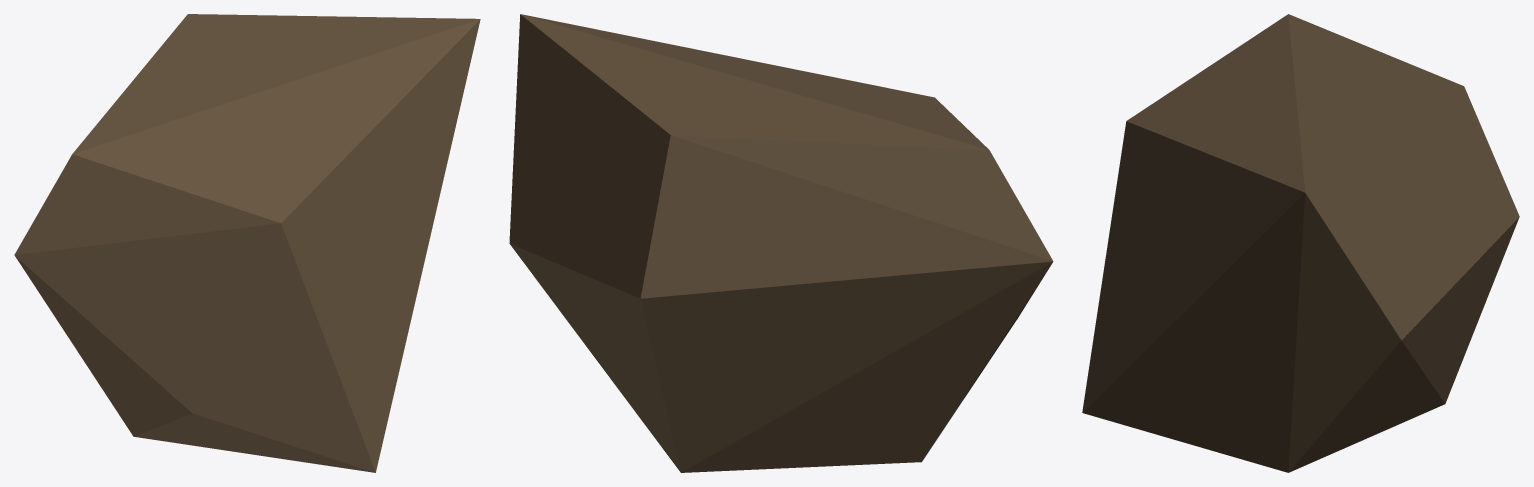
The model's file is Rock-B04.fbx.
The picture shows the model from 3 angles, left to right: view 1: azimuth 30°, elevation 25°; view 2: azimuth 150°, elevation 25°; view 3: azimuth 270°, elevation 25°; orthographic projection. The views are drawn at different scales.
Visible parts, largest first — view 1: Rock-B04; view 2: Rock-B04; view 3: Rock-B04.
Boxes of the visible parts, x1,y1,x2,y2 form: Rock-B04: (14,14,480,472); Rock-B04: (509,14,1053,472); Rock-B04: (1082,14,1519,472).
Bounding box in the file's own units: 56.97 × 37.4 × 44.75.
